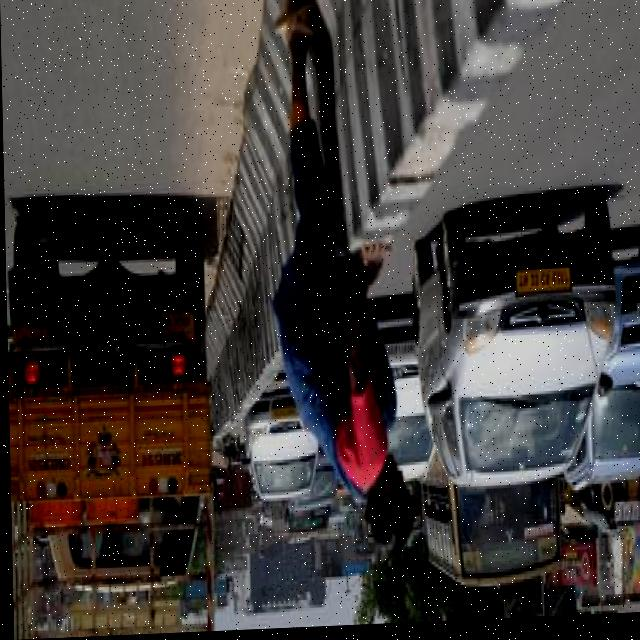plate: (512, 259, 574, 311), (156, 310, 195, 349), (382, 345, 414, 364), (267, 409, 295, 426), (632, 306, 640, 333)
